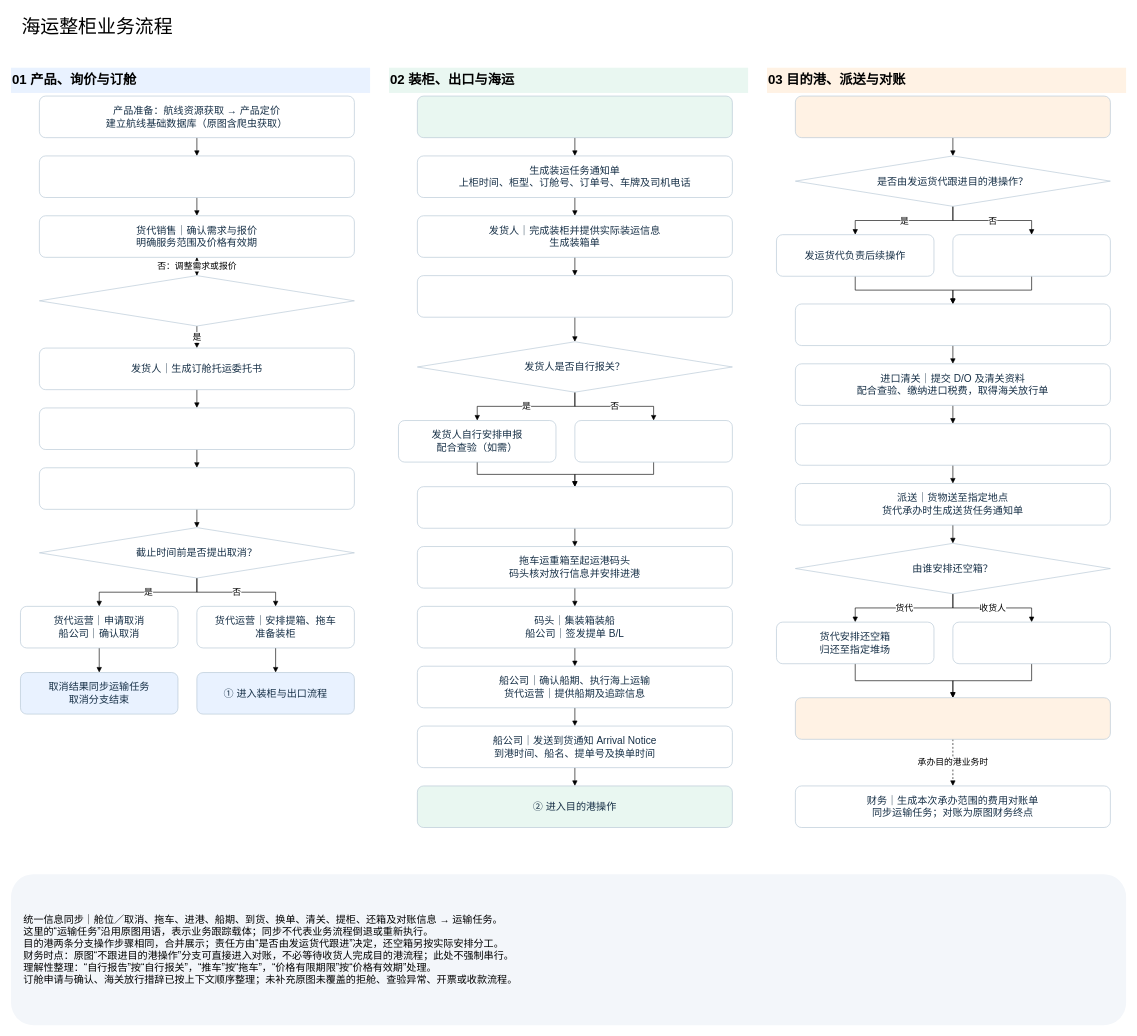
The diagram is 1137 pixels wide and 1036 high, and some of its shapes have lost their labels. Each missing label, with the centre of its shape:
① 接续：提箱与装柜: pixel 574 116
② 接续：到港与通知: pixel 952 116
发货人｜准备出口报关资料 报关单、商业发票、装箱单、合同、报关委托书等: pixel 574 296
发货人｜审核价格与服务 是否确认？: pixel 196 300
发货人｜提出发运需求、查询船期与运价 提供货物、起讫地、装运时间及服务需求: pixel 196 176
取得海关放行信息及相关单证: pixel 574 507
建立运输任务 后续进度、单证与费用持续同步: pixel 196 488
换单｜正本提单或电放资料 缴纳相关费用，换取提货单 D/O: pixel 952 324
提柜｜安排拖车，凭 D/O、海关放行单及 EIR 至码头／堆场提柜，验箱出场: pixel 952 444
收货人安排还空箱 归还至指定堆场: pixel 1031 642
收货人自行处理 或委托目的港货代: pixel 1031 255
目的港实物流转完成: pixel 952 718
货代运营 ↔ 船公司｜申请并确认舱位 向客户提供舱位确认单: pixel 196 428
货代运营安排申报 配合查验（如需）: pixel 653 441
